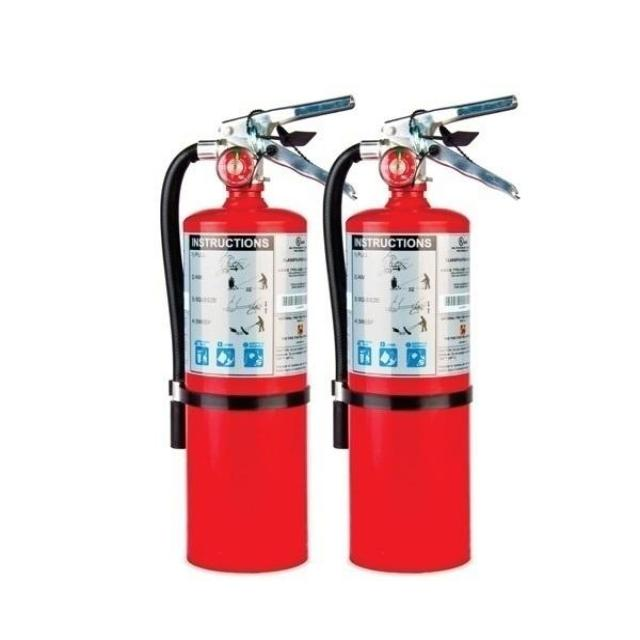fire_extinguisher: (154, 90, 362, 579), (318, 90, 524, 575)
